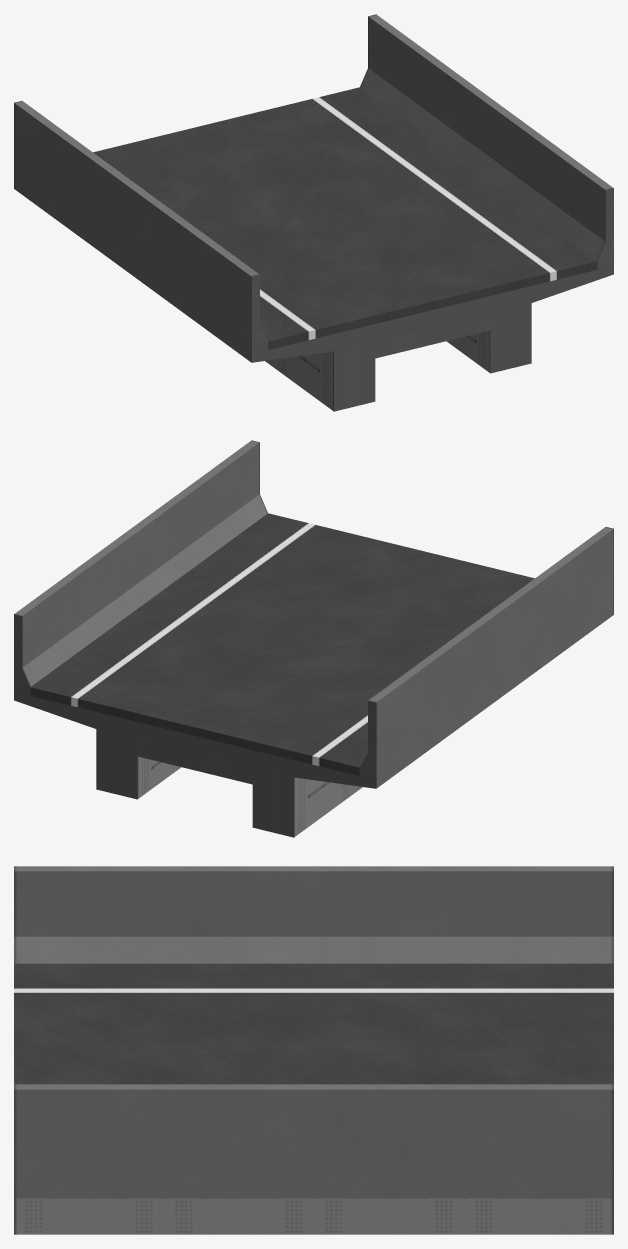
File: 【組立式】高速道路(一車線)_W4m×D5m×H0.1m.fbx
The picture shows the model from 3 angles, top to bottom: view 1: azimuth 30°, elevation 25°; view 2: azimuth 150°, elevation 25°; view 3: azimuth 270°, elevation 25°; orthographic projection. The views are drawn at different scales.
Visible parts, largest first — view 1: Road, Wall; view 2: Road, Wall; view 3: Wall, Road.
Boxes of the visible parts, left/top/right/bottom form: Road: left=93, top=87, right=597, bottom=349; Wall: left=14, top=14, right=613, bottom=411; Road: left=30, top=513, right=534, bottom=775; Wall: left=14, top=440, right=613, bottom=837; Wall: left=14, top=866, right=613, bottom=1234; Road: left=14, top=963, right=613, bottom=1084.
Bounding box in the file's own units: 4.4 × 1.8 × 5.
